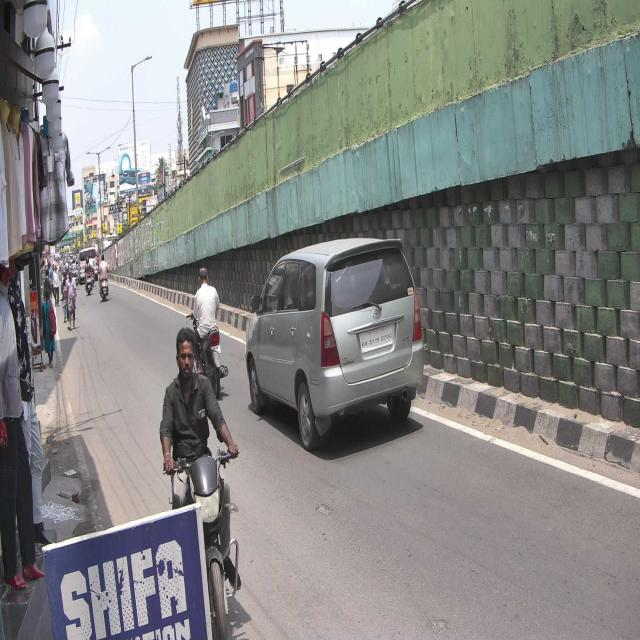single_rider: (157, 324, 245, 638)
